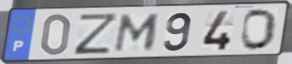0: (38, 13, 73, 58)
4: (201, 10, 234, 52)
9: (163, 11, 193, 52)
M: (111, 12, 163, 53)
O: (239, 8, 279, 52)
Z: (72, 12, 121, 56)
